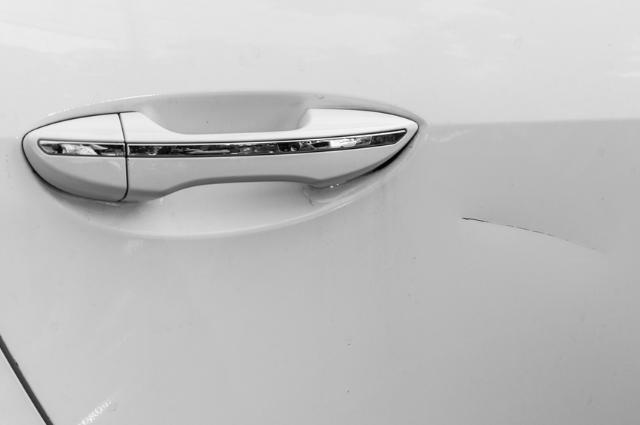Door: (410, 183, 640, 293)
